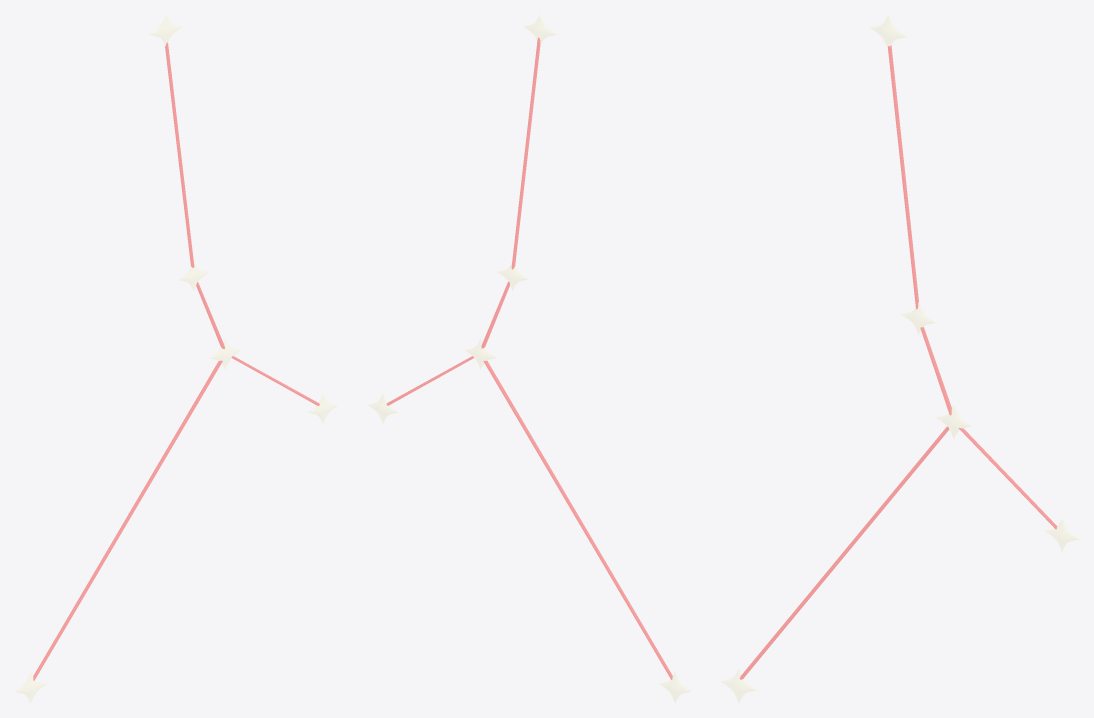
Rendered from sozvezdiya-rak.glb.
3 renders of one model, left to right at view 1: azimuth 30°, elevation 25°; view 2: azimuth 150°, elevation 25°; view 3: azimuth 330°, elevation 25°, orthographic. The views are drawn at different scales.
Parts seen in each view (by area): view 1: Cylinder; view 2: Cylinder; view 3: Cylinder.
Part boxes in pixels (left/top/right/bottom): Cylinder: left=33, top=42, right=319, bottom=680; Cylinder: left=386, top=37, right=672, bottom=679; Cylinder: left=739, top=45, right=1057, bottom=679.
Size of the model in its own units: 0.1402 by 0.2709 by 0.00308.
